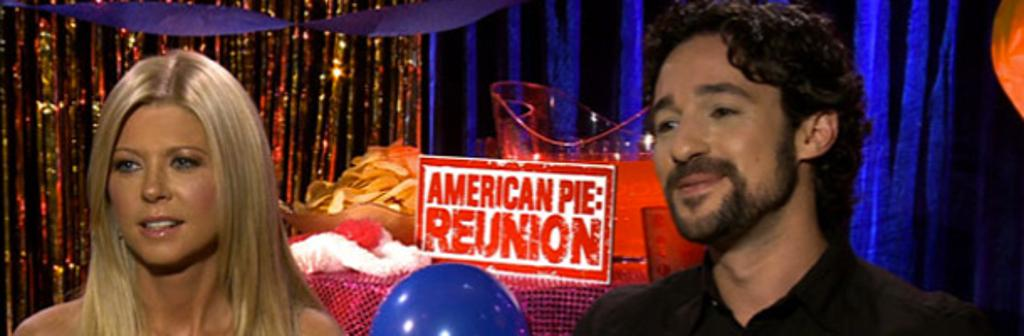face: (652, 36, 794, 260), (108, 104, 222, 260)
